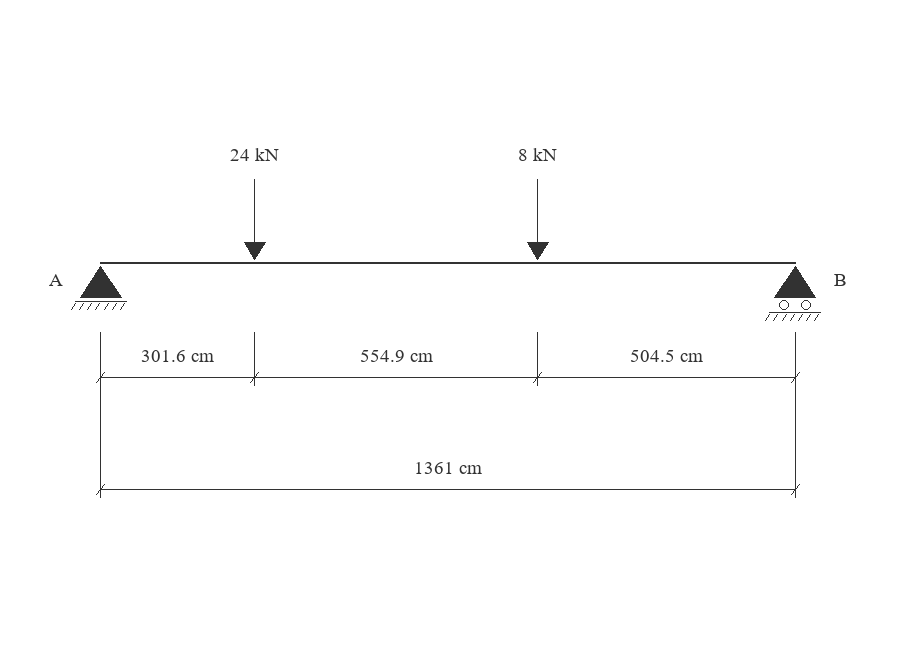pin_support: (71, 266, 127, 310)
point_load: (244, 179, 266, 260), (527, 179, 549, 260)
roller_support: (765, 266, 821, 321)
